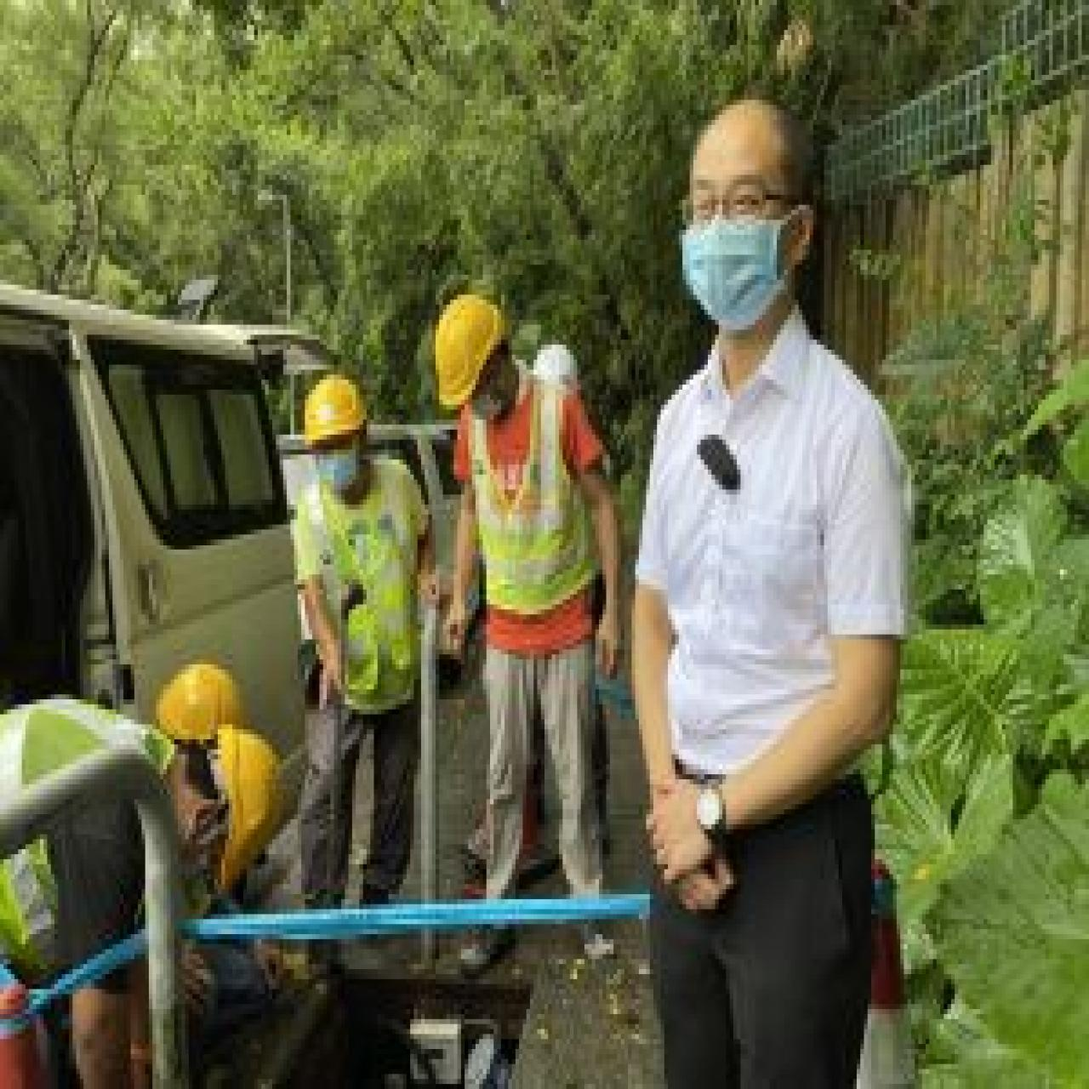NO_Safety_Vest: (653, 350, 865, 805)
Person: (623, 84, 914, 1089), (415, 272, 631, 971), (0, 693, 297, 1088), (282, 356, 425, 981)
Safety_Vest: (0, 691, 172, 968), (464, 372, 589, 628), (306, 477, 424, 700)
